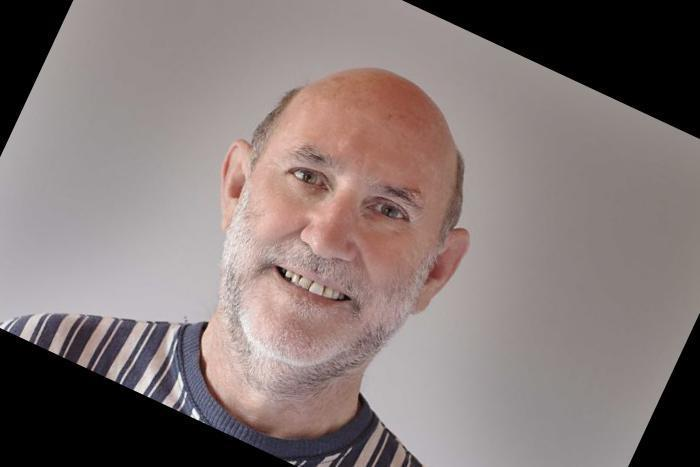Sober: (252, 100, 432, 346)
